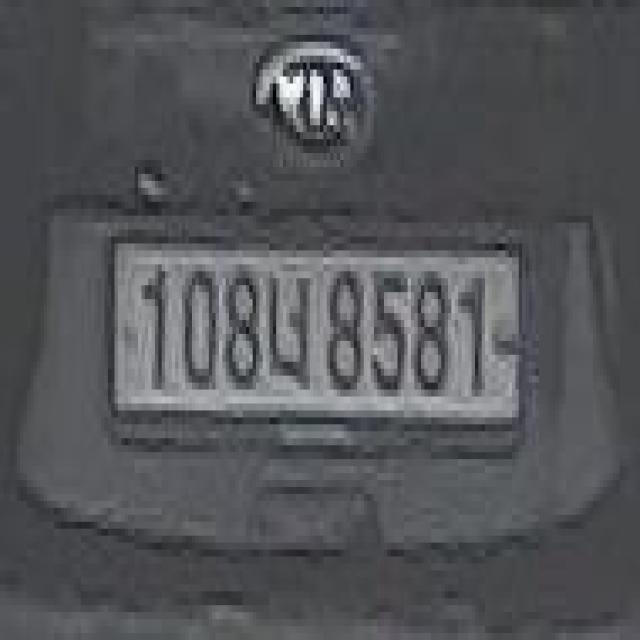illegal_plate: (104, 223, 529, 465)
